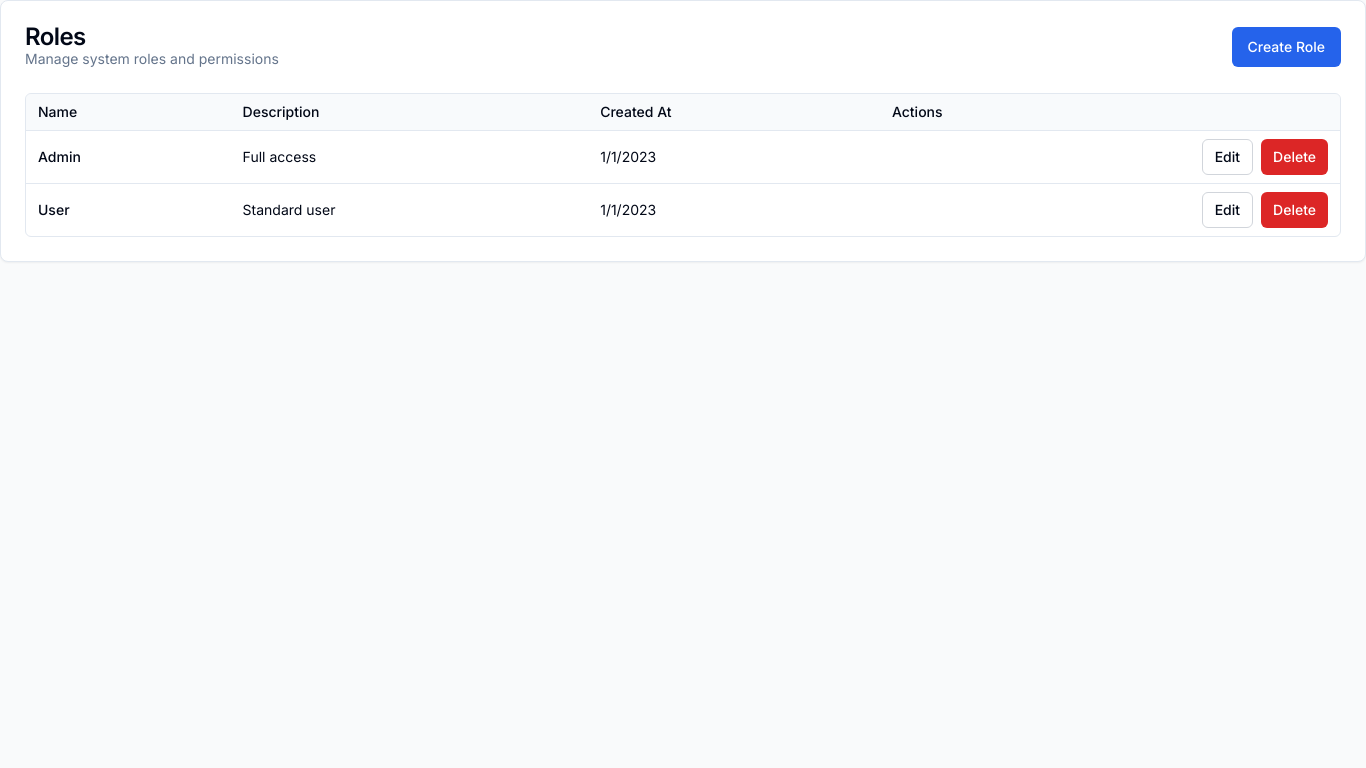
Test: RolesList › should open create role dialog
Click the button "Create Role".
click(1286, 47)  # box [1232,27,1341,67]
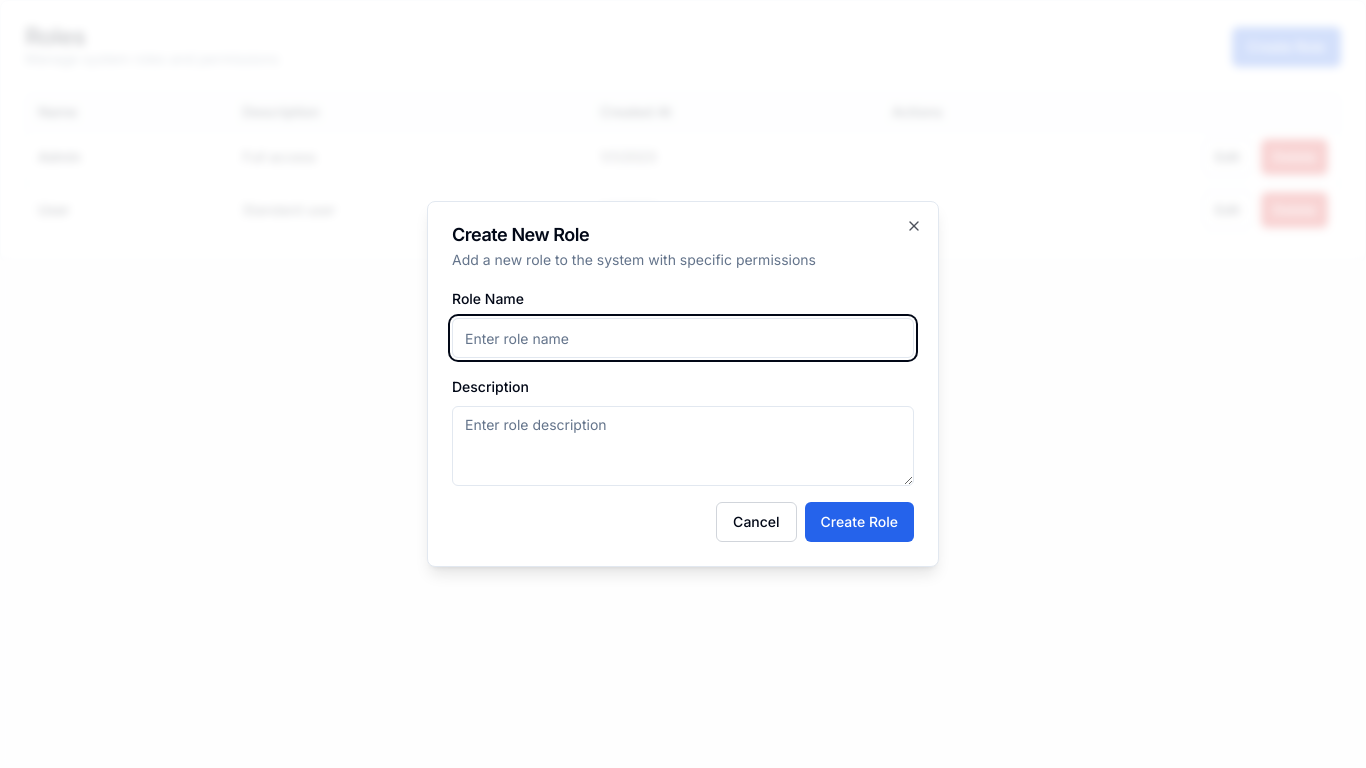
Check: the heading "Create New Role" is shown, box [452,224,589,245]
